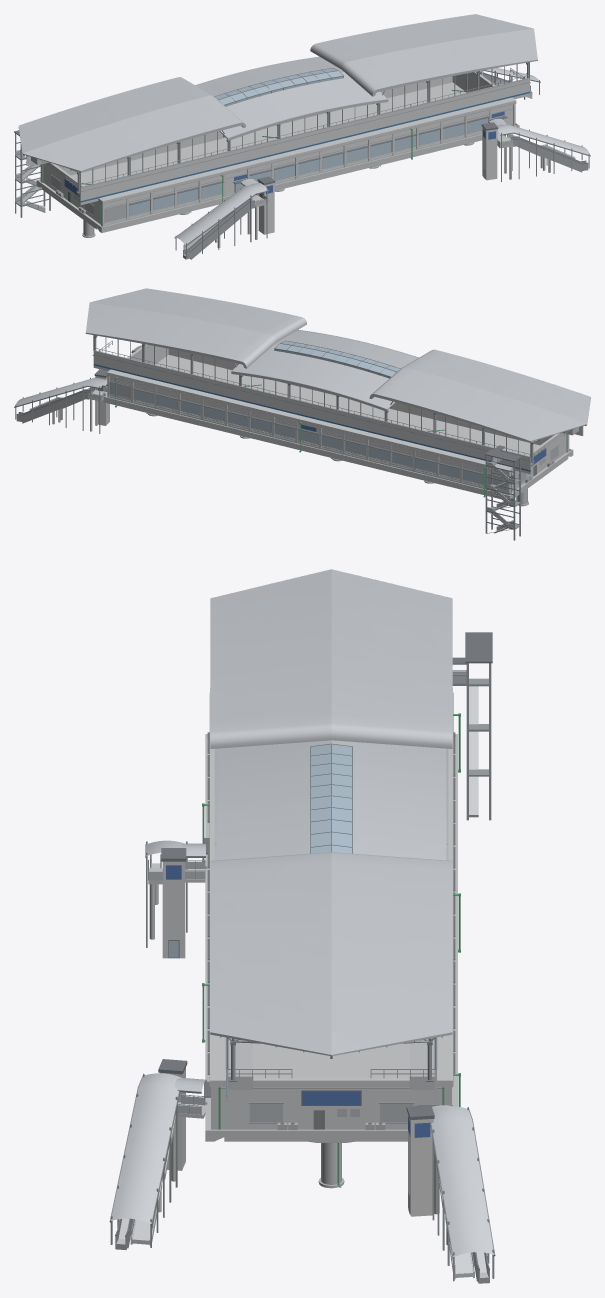
3 views of the same model, one above another, from view 1: azimuth 30°, elevation 25°; view 2: azimuth 150°, elevation 25°; view 3: azimuth 270°, elevation 25° (orthographic). The views are drawn at different scales.
Visible parts, largest first — view 1: BL37, BL37_conc, BL37_access; view 2: BL37, BL37_conc, BL37_access; view 3: BL37, BL37_access, BL37_conc.
Boxes of the visible parts, bbox=[...] form: BL37: bbox=[18, 14, 537, 205]; BL37_conc: bbox=[36, 71, 519, 237]; BL37_access: bbox=[14, 67, 590, 259]; BL37: bbox=[85, 288, 590, 474]; BL37_conc: bbox=[103, 344, 573, 506]; BL37_access: bbox=[14, 345, 567, 540]; BL37: bbox=[210, 569, 452, 1102]; BL37_access: bbox=[109, 632, 495, 1283]; BL37_conc: bbox=[204, 688, 457, 1188].
Size of the model in its own units: 141 by 28 by 43.93.
